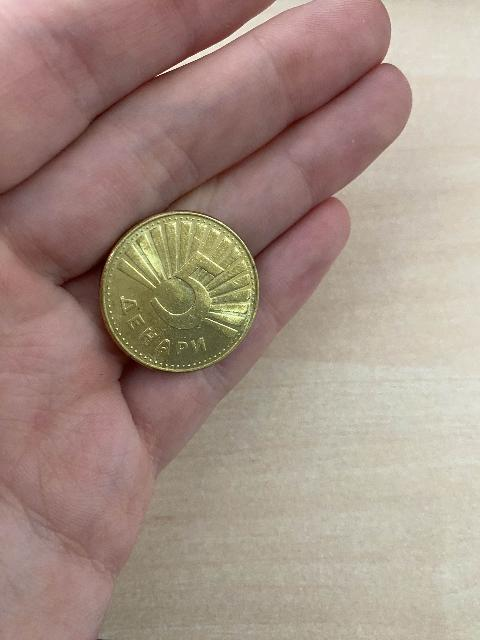5_coin: (100, 212, 258, 371)
